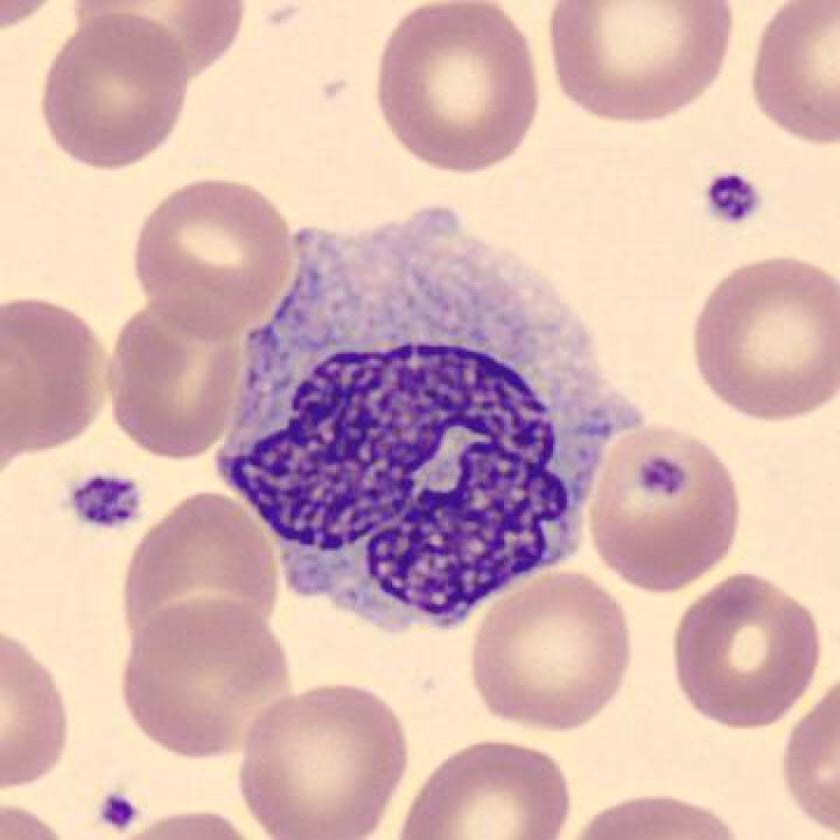monocyte: (195, 184, 659, 640)
